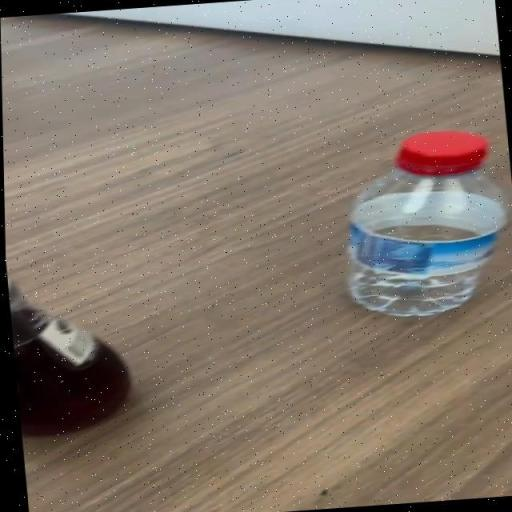plastic: (344, 130, 502, 322)
